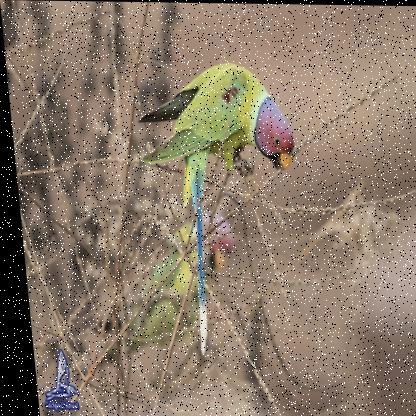Burung: (131, 59, 308, 356)
